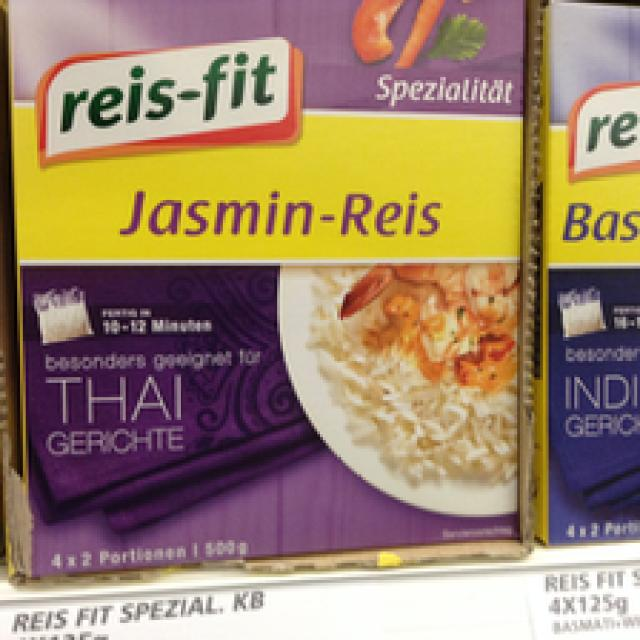groceries: (6, 0, 526, 577)
